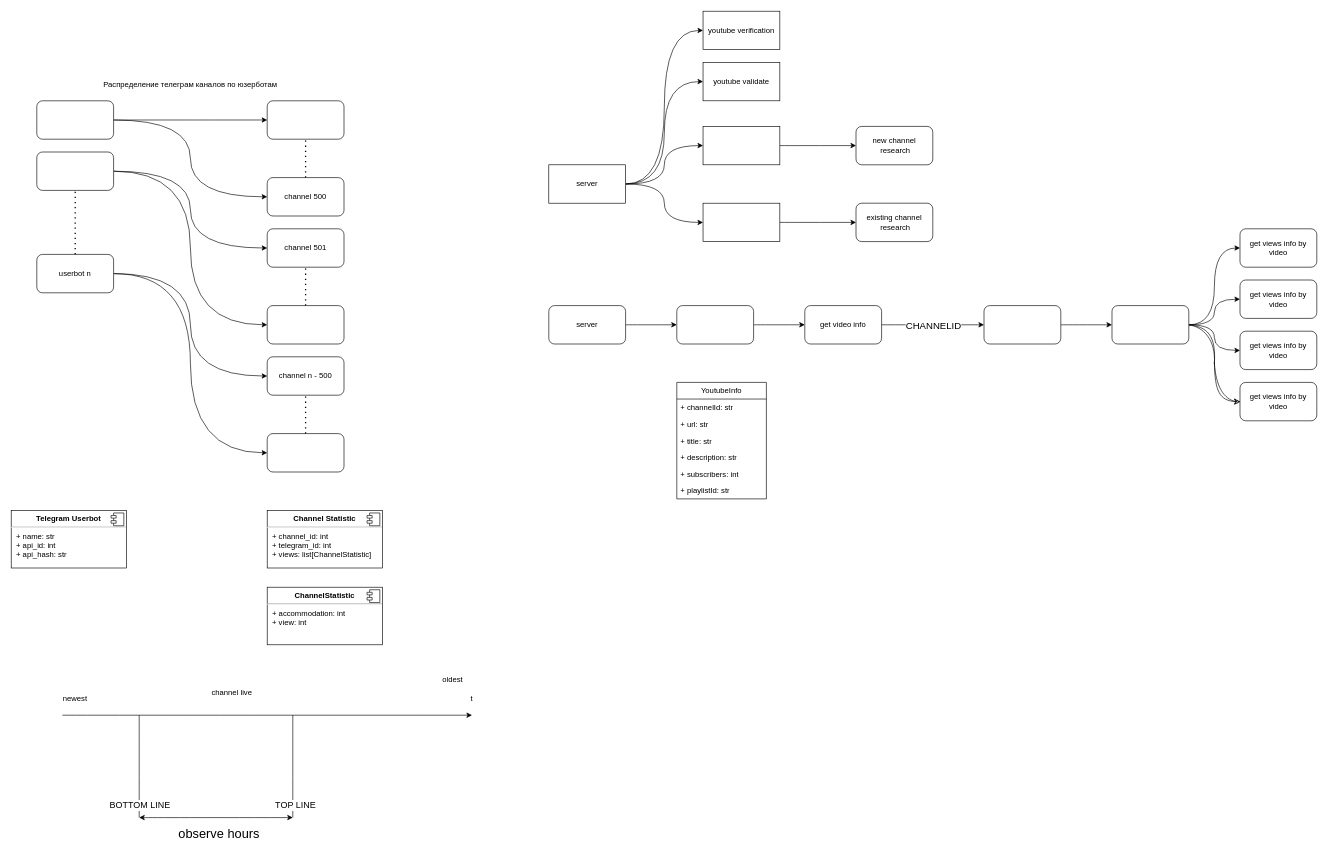
Image size: 1328x854. Some labels were removed from this diagram. The shapes that lost their labels are listed below. From the top down, each one's centre as x and y in pixels, then its label:
At (75,119): "userbot 1".
At (305,119): "channel 1".
At (741,145): "new".
At (75,170): "userbot 2".
At (741,222): "existing".
At (305,324): "channel 1000".
At (715,324): "video url".
At (1022,324): "get channel info".
At (1150,324): "get videos".
At (305,452): "channel n".
